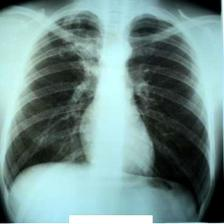tuberculosis: (3, 9, 212, 220)
